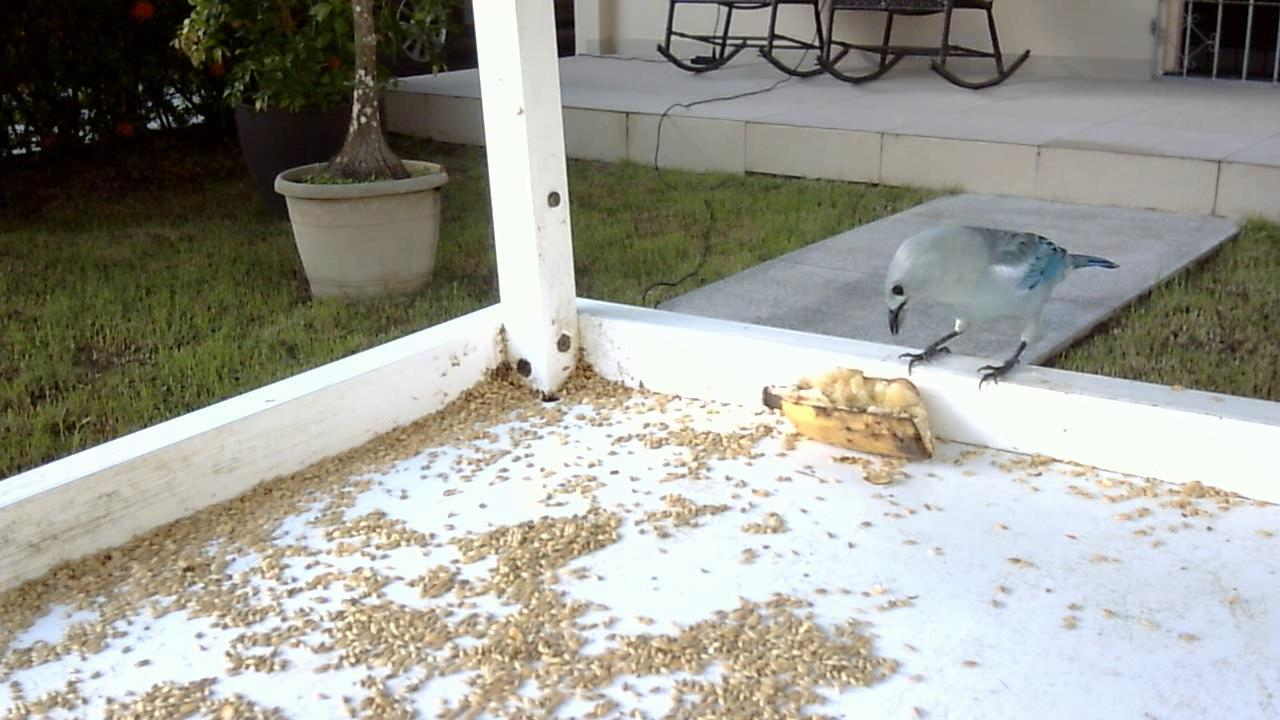sanhaco_da_amazonia: (878, 209, 1123, 397)
